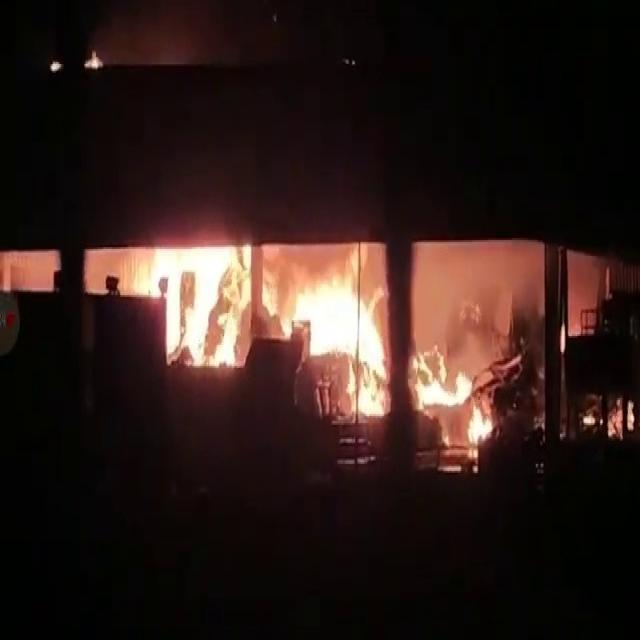Fire: (130, 240, 392, 420), (414, 348, 493, 442)
Smoke: (417, 245, 545, 352), (89, 10, 272, 76), (583, 391, 635, 437)
